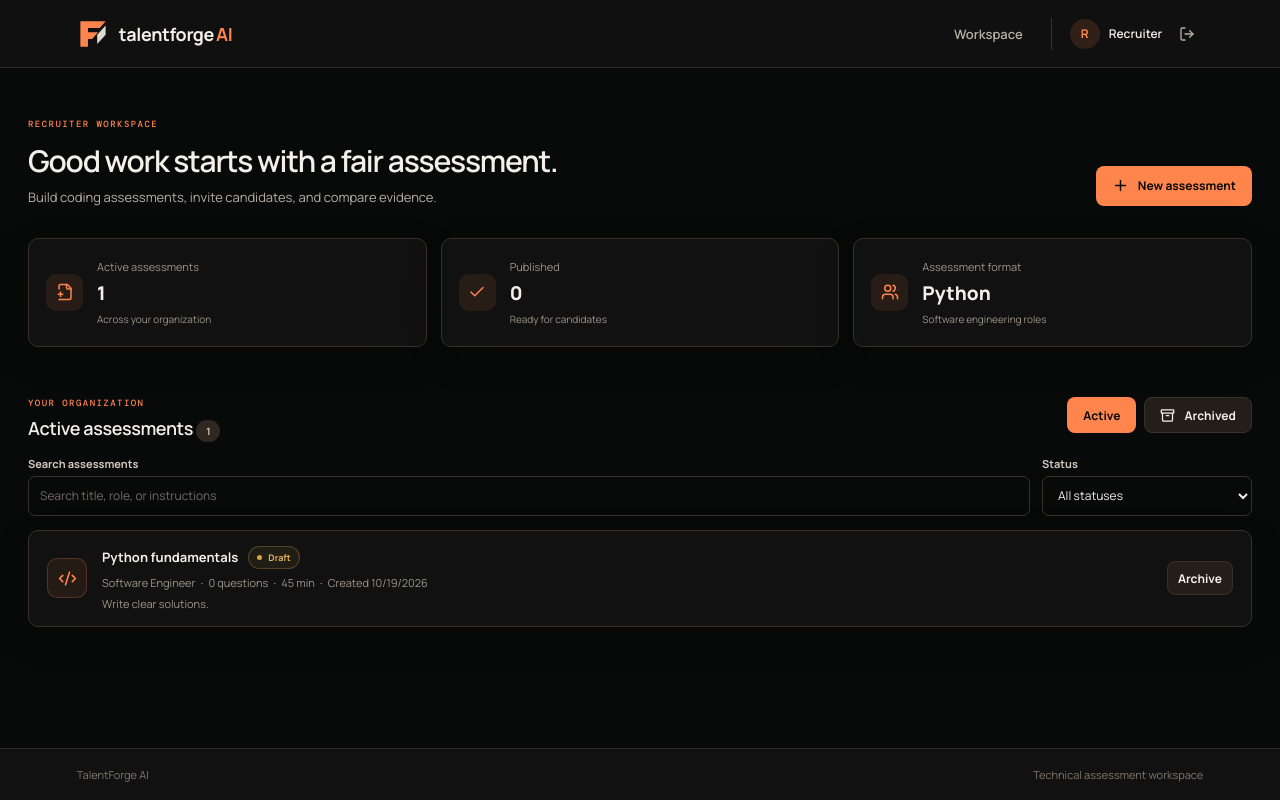
Test: recruiter assessment CRUD › archives assessments with candidate history and restores them from the archived view
Click the button "Archive".
click(1200, 578)  # box [1167,561,1233,595]
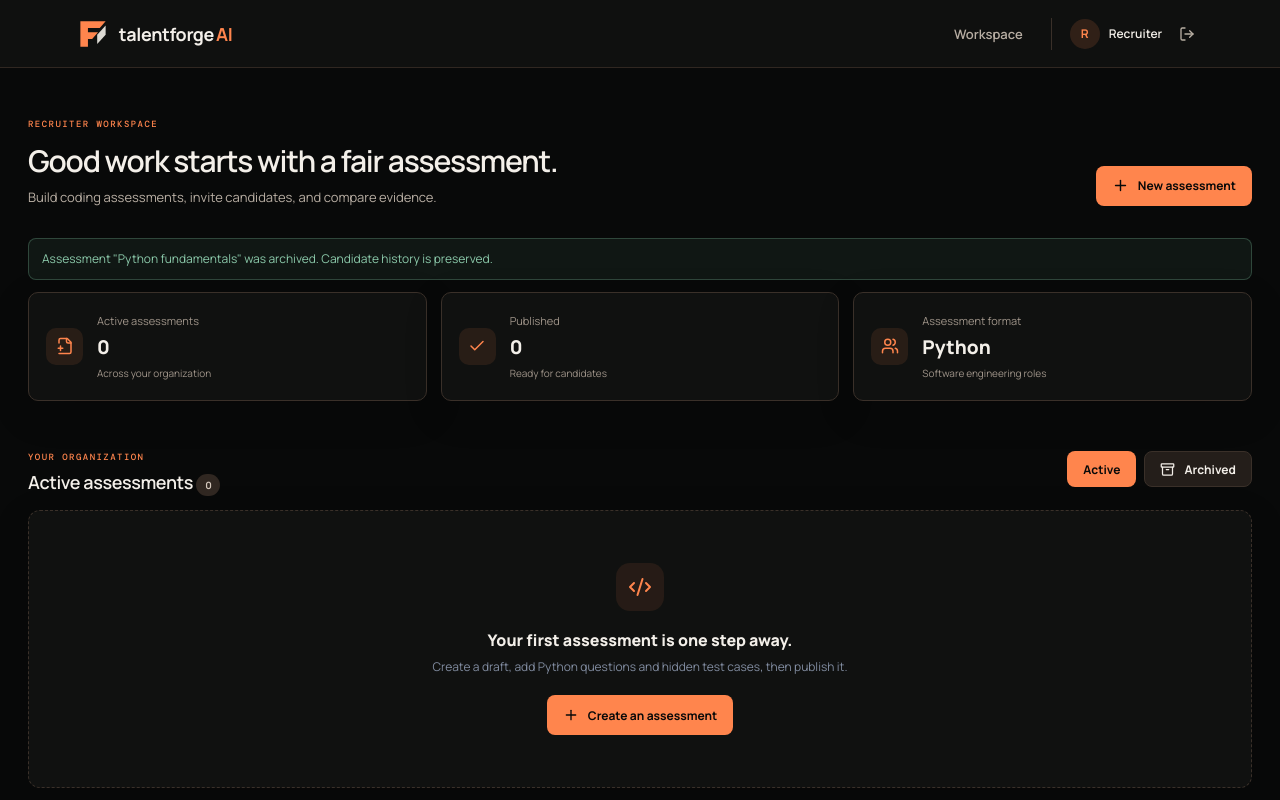
Now the message shows "Candidate history is preserved.", box [42,250,493,266]
Click the button "Archived".
click(1198, 469)  # box [1144,451,1252,487]
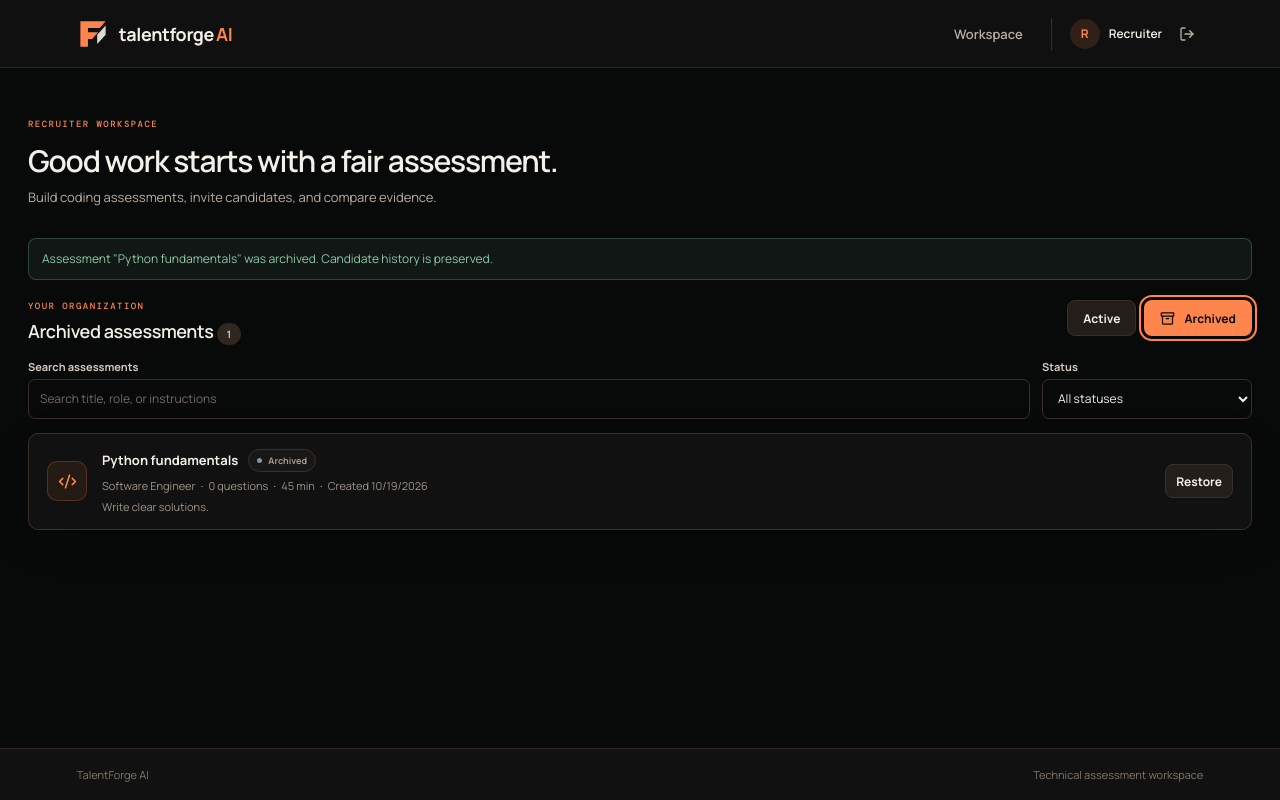
Now the heading "Python fundamentals" is shown, box [102,451,238,469]
Now the number of buttons "Archived" is 2, box [1144,300,1252,336]; [248,448,316,472]
Click the button "Restore".
click(1199, 481)  # box [1165,464,1233,498]
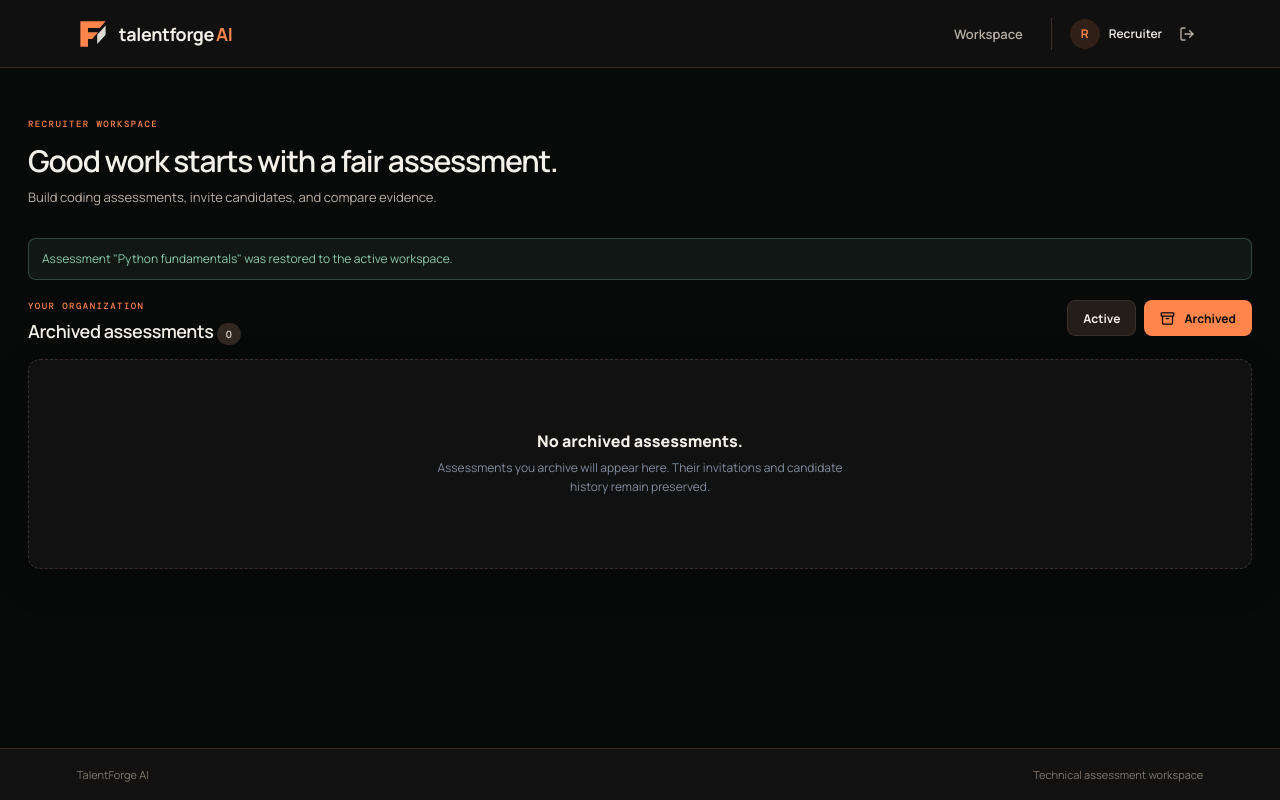
Now the message shows "restored to the active workspace", box [42,250,452,266]
